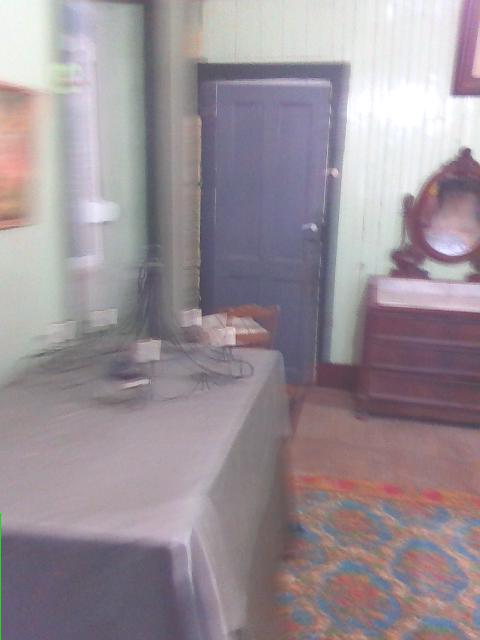closed_door: (190, 62, 351, 382)
